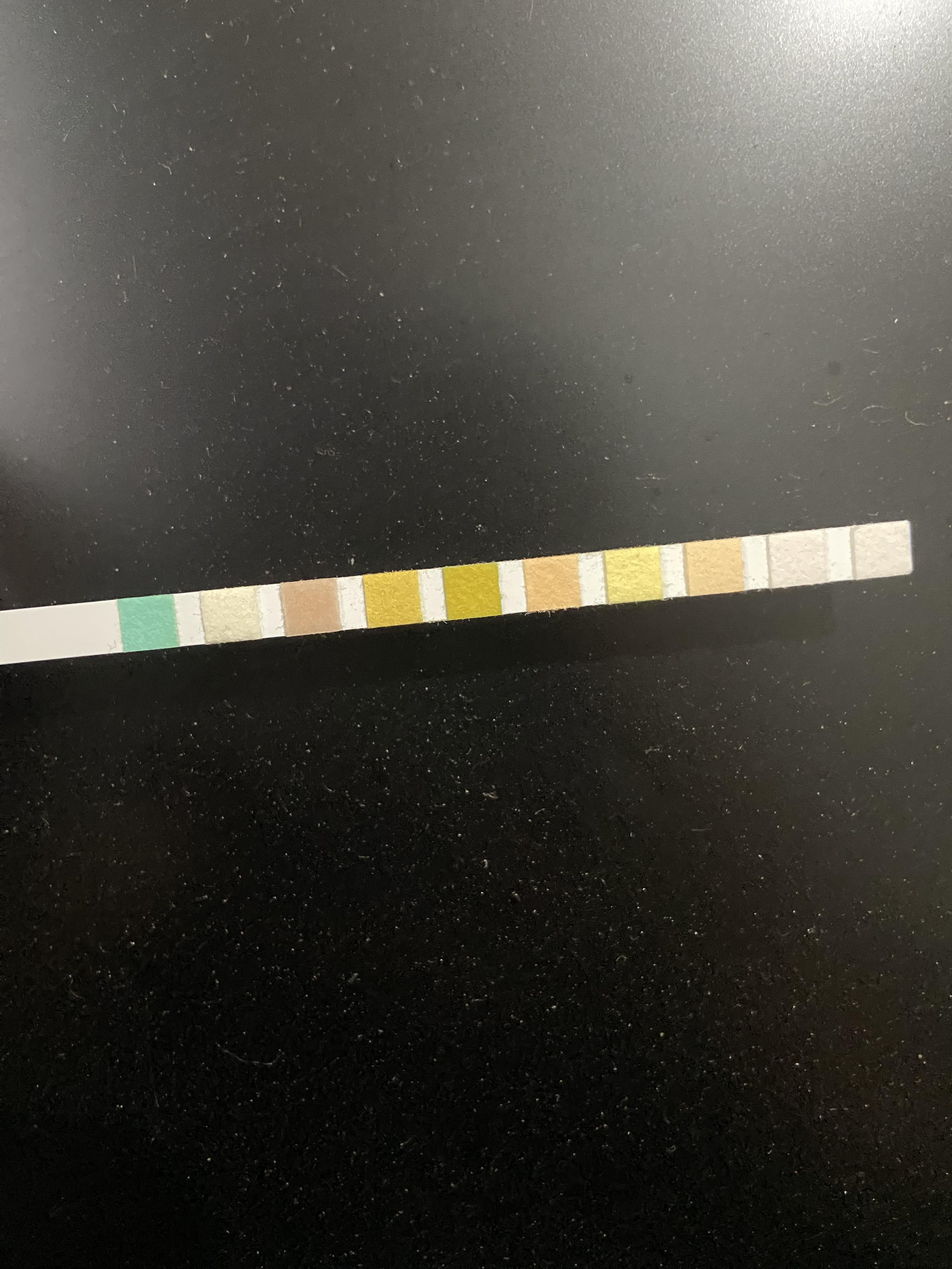Bilirubin: (208, 590, 257, 639)
Blood: (450, 568, 497, 616)
Glucose: (125, 600, 171, 648)
Ketone: (288, 583, 337, 632)
Leukocytes: (857, 526, 909, 574)
Nitrite: (774, 534, 826, 582)
Protein: (609, 552, 659, 598)
SpGravity: (370, 576, 416, 624)
Urobilinogen: (692, 544, 740, 591)
pH: (530, 559, 576, 608)
strip: (1, 520, 914, 665)
